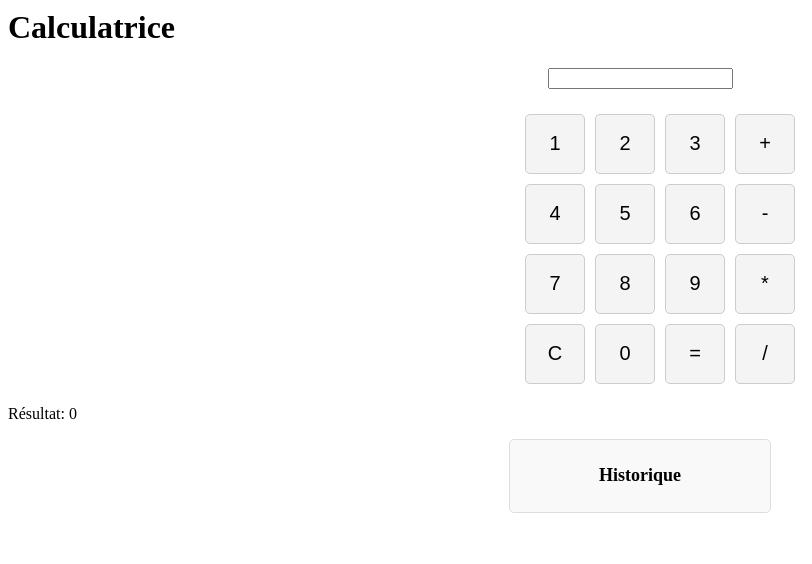
Calculatrice › Effectue une addition
Step 1. Click the button with test id "1" → [555, 144], box [525,114,585,174]
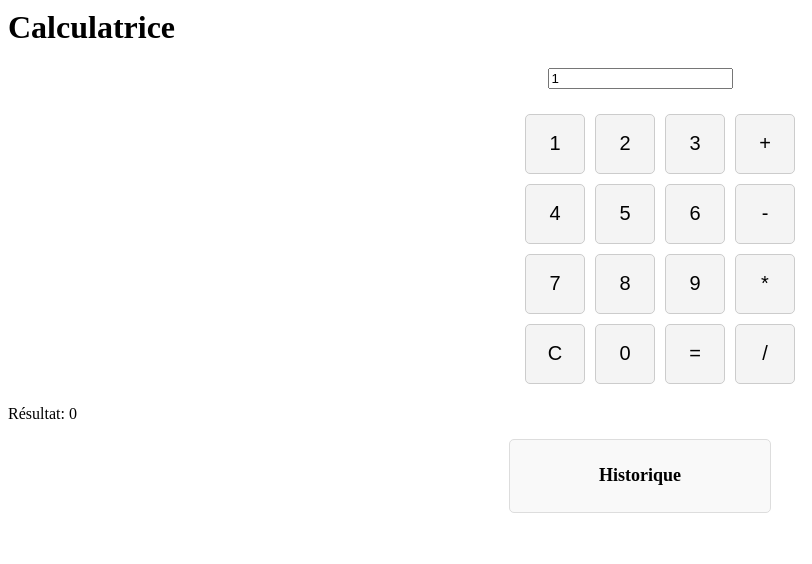
Step 2. Click the button with test id "plus" → [765, 144], box [735,114,795,174]
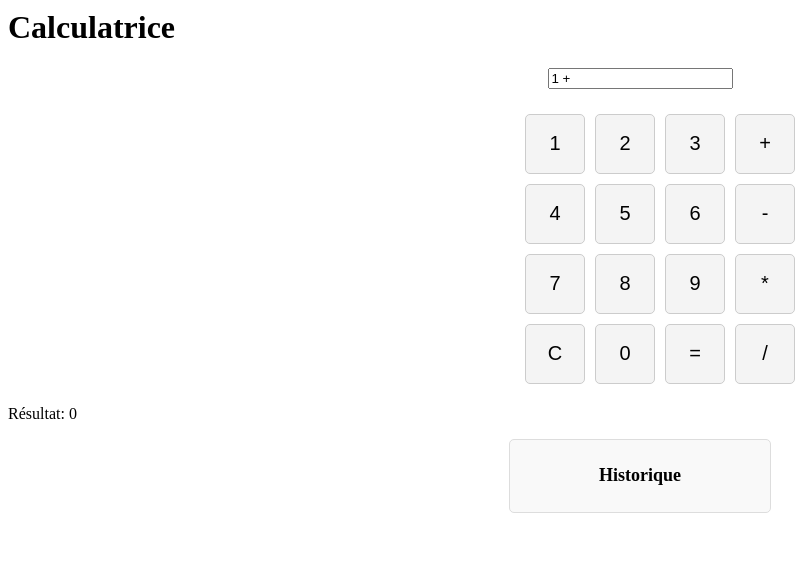
Step 3. Click the button with test id "2" → [625, 144], box [595,114,655,174]
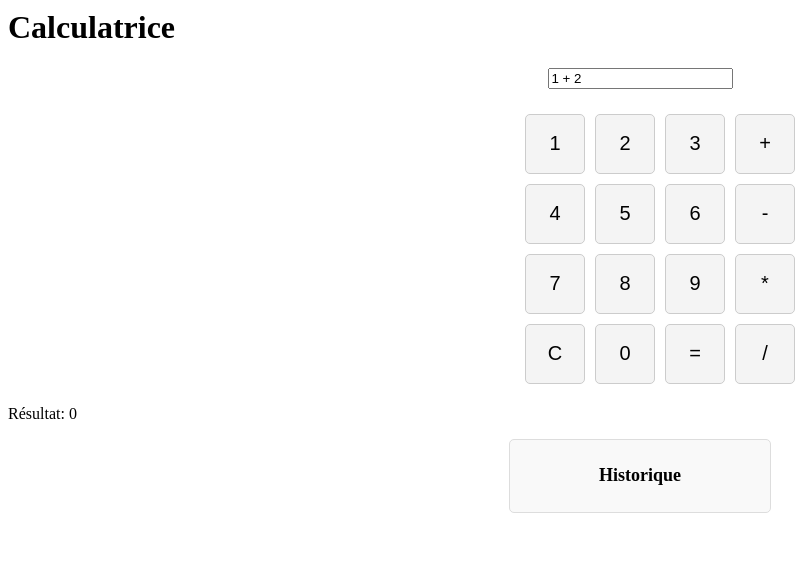
Step 4. Click the button with test id "egal" → [695, 354], box [665,324,725,384]
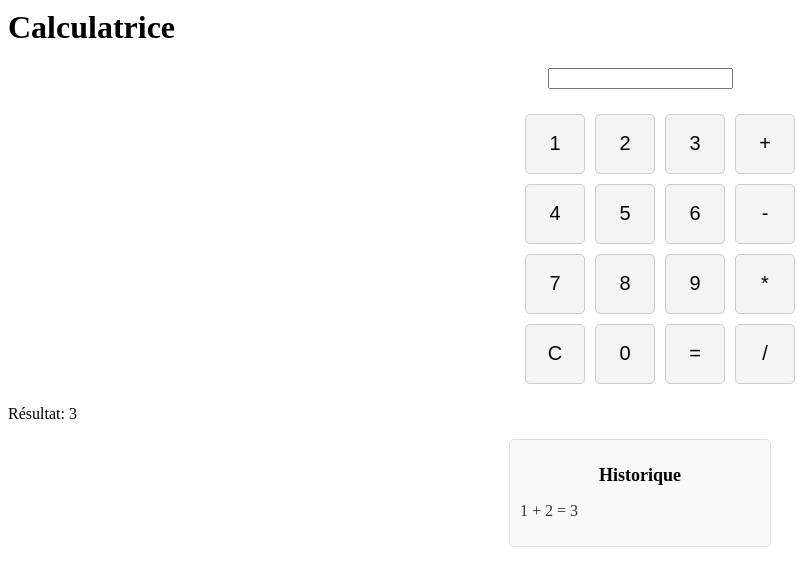
Check: the text with test id "result" reads "3", box [69,405,77,422]
Check: the list item with test id "historique" reads "1 + 2 = 3", box [520,502,578,519]
